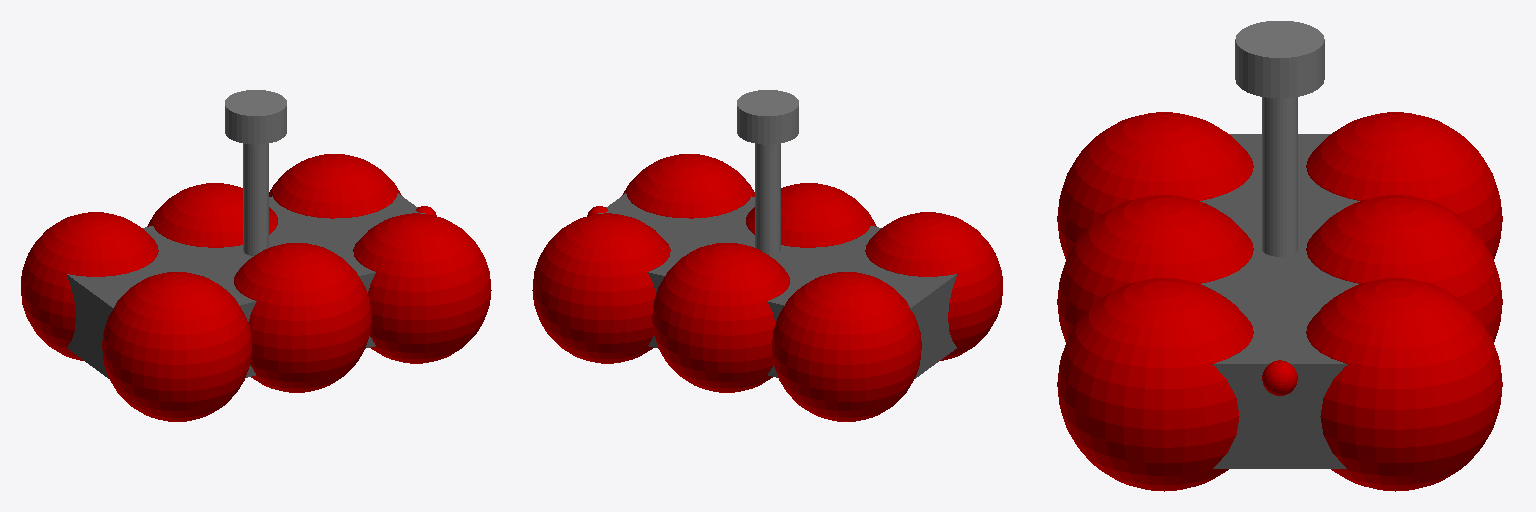
URDF robot description (pointRobot):
<?xml version="1.0"?>
<robot name="pointRobot">
  <!--colors-->
  <material name="blue">
      <color rgba="0 0 0.8 1"/>
  </material>
  <material name="red">
      <color rgba="0.8 0 0.0 1"/>
  </material>
  <material name="transparent_red">
      <color rgba="0.8 0 0.0 0.2"/>
  </material>
  <material name="darkgrey">
      <color rgba="0.502 0.502 0.502 1.0"/>
  </material>
  <material name="lightgrey">
      <color rgba="0.402 0.402 0.402 0.9"/>
  </material>
  <!--links-->
  <link name="world"/>
  <link name="base_link_x">
    <inertial>
      <mass value="1.0"/>
      <origin rpy="0 0 0" xyz="0 0 0"/>
      <inertia ixx="1.0" ixy="0.0" ixz="0.0" iyy="1.0" iyz="0.0" izz="1.0"/>
    </inertial>
  </link>
  <link name="base_link_y">
    <inertial>
      <mass value="1.0"/>
      <origin rpy="0 0 0" xyz="0 0 0"/>
      <inertia ixx="1.0" ixy="0.0" ixz="0.0" iyy="1.0" iyz="0.0" izz="1.0"/>
    </inertial>
  </link>
  <link name="base_link">
    <inertial>
      <mass value="100.0"/>
      <origin rpy="0 0 0" xyz="0 0 0"/>
      <inertia ixx="1.0" ixy="0.0" ixz="0.0" iyy="1.0" iyz="0.0" izz="1.0"/>
    </inertial>
    <collision>
      <origin rpy="0.0 0 0" xyz="0 0 0"/>
      <geometry>
        <box size='0.61 0.33 0.13'/>
      </geometry>
    </collision>
    <visual>
      <origin rpy="0.0 0 0" xyz="0 0 0"/>
      <geometry>
        <box size='0.61 0.33 0.13'/>
      </geometry>
      <material name="lightgrey"/>
    </visual>
  </link>
  <link name="pole_link">
    <inertial>
      <mass value="100.0"/>
      <origin rpy="0 0 0" xyz="0 0 0"/>
      <inertia ixx="1.0" ixy="0.0" ixz="0.0" iyy="1.0" iyz="0.0" izz="1.0"/>
    </inertial>
    <collision>
      <origin rpy="0.0 0 0" xyz="0 0 0"/>
      <geometry>
          <cylinder length="0.43" radius="0.02"/>
      </geometry>
    </collision>
    <visual>
      <origin rpy="0.0 0 0" xyz="0 0 0"/>
      <geometry>
          <cylinder length="0.43" radius="0.02"/>
      </geometry>
      <material name="darkgrey"/>
    </visual>
  </link>
  <link name="platform_link">
    <inertial>
      <mass value="100.0"/>
      <origin rpy="0 0 0" xyz="0 0 0"/>
      <inertia ixx="1.0" ixy="0.0" ixz="0.0" iyy="1.0" iyz="0.0" izz="1.0"/>
    </inertial>
    <collision>
      <origin rpy="0.0 0 0" xyz="0 0 0"/>
      <geometry>
          <cylinder length="0.05" radius="0.05"/>
      </geometry>
    </collision>
    <visual>
      <origin rpy="0.0 0 0" xyz="0 0 0"/>
      <geometry>
          <cylinder length="0.05" radius="0.05"/>
      </geometry>
      <material name="darkgrey"/>
    </visual>
  </link>
  <link name="front_link">
    <inertial>
      <mass value="0.01"/>
      <origin rpy="0 0 0" xyz="0 0 0"/>
      <inertia ixx="1.0" ixy="0.0" ixz="0.0" iyy="1.0" iyz="0.0" izz="1.0"/>
    </inertial>
    <visual>
      <origin rpy="0.0 0 0" xyz="0 0 0"/>
      <geometry>
          <sphere radius="0.02"/>
      </geometry>
      <material name="red"/>
    </visual>
  </link>
  <link name="lidar_sensor_link">
    <inertial>
      <mass value="0.01"/>
      <origin rpy="0 0 0" xyz="0 0 0"/>
      <inertia ixx="1.0" ixy="0.0" ixz="0.0" iyy="1.0" iyz="0.0" izz="1.0"/>
    </inertial>
  </link>
  <!--collision links-->
  <link name="collision_link_front_right">
    <inertial>
      <mass value="0.01"/>
      <origin rpy="0 0 0" xyz="0 0 0"/>
      <inertia ixx="1.0" ixy="0.0" ixz="0.0" iyy="1.0" iyz="0.0" izz="1.0"/>
    </inertial>
    <visual>
      <origin rpy="0.0 0 0" xyz="0 0 0"/>
      <geometry>
        <sphere radius='0.12'/>
      </geometry>
      <material name="transparent_red"/>
    </visual>
  </link>
  <link name="collision_link_front_left">
    <inertial>
      <mass value="0.01"/>
      <origin rpy="0 0 0" xyz="0 0 0"/>
      <inertia ixx="1.0" ixy="0.0" ixz="0.0" iyy="1.0" iyz="0.0" izz="1.0"/>
    </inertial>
    <visual>
      <origin rpy="0.0 0 0" xyz="0 0 0"/>
      <geometry>
        <sphere radius='0.12'/>
      </geometry>
      <material name="transparent_red"/>
    </visual>
  </link>
  <link name="collision_link_center_right">
    <inertial>
      <mass value="0.01"/>
      <origin rpy="0 0 0" xyz="0 0 0"/>
      <inertia ixx="1.0" ixy="0.0" ixz="0.0" iyy="1.0" iyz="0.0" izz="1.0"/>
    </inertial>
    <visual>
      <origin rpy="0.0 0 0" xyz="0 0 0"/>
      <geometry>
        <sphere radius='0.12'/>
      </geometry>
      <material name="transparent_red"/>
    </visual>
  </link>
  <link name="collision_link_center_left">
    <inertial>
      <mass value="0.01"/>
      <origin rpy="0 0 0" xyz="0 0 0"/>
      <inertia ixx="1.0" ixy="0.0" ixz="0.0" iyy="1.0" iyz="0.0" izz="1.0"/>
    </inertial>
    <visual>
      <origin rpy="0.0 0 0" xyz="0 0 0"/>
      <geometry>
        <sphere radius='0.12'/>
      </geometry>
      <material name="transparent_red"/>
    </visual>
  </link>
  <link name="collision_link_rear_right">
    <inertial>
      <mass value="0.01"/>
      <origin rpy="0 0 0" xyz="0 0 0"/>
      <inertia ixx="1.0" ixy="0.0" ixz="0.0" iyy="1.0" iyz="0.0" izz="1.0"/>
    </inertial>
    <visual>
      <origin rpy="0.0 0 0" xyz="0 0 0"/>
      <geometry>
        <sphere radius='0.12'/>
      </geometry>
      <material name="transparent_red"/>
    </visual>
  </link>
  <link name="collision_link_rear_left">
    <inertial>
      <mass value="0.01"/>
      <origin rpy="0 0 0" xyz="0 0 0"/>
      <inertia ixx="1.0" ixy="0.0" ixz="0.0" iyy="1.0" iyz="0.0" izz="1.0"/>
    </inertial>
    <visual>
      <origin rpy="0.0 0 0" xyz="0 0 0"/>
      <geometry>
        <sphere radius='0.12'/>
      </geometry>
      <material name="transparent_red"/>
    </visual>
  </link>
  <!--joints-->
  <joint name="mobile_joint_x" type="prismatic">
    <safety_controller k_position="100.0" k_velocity="40.0" soft_lower_limit="-2.8973" soft_upper_limit="2.8973"/>
    <parent link="world"/>
    <child link="base_link_x"/>
    <origin rpy="0 0 0" xyz="0 0 0.05"/>
    <axis xyz="1 0 0"/>
    <limit effort="87" lower="-5" upper="5" velocity="2.1750"/>
  </joint>
  <joint name="mobile_joint_y" type="prismatic">
    <safety_controller k_position="100.0" k_velocity="40.0" soft_lower_limit="-2.8973" soft_upper_limit="2.8973"/>
    <parent link="base_link_x"/>
    <child link="base_link_y"/>
    <origin rpy="0 0 0" xyz="0 0 0"/>
    <axis xyz="0 1 0"/>
    <limit effort="87" lower="-5" upper="5" velocity="2.1750"/>
  </joint>
  <joint name="mobile_joint_theta" type="revolute">
    <parent link="base_link_y"/>
    <child link="base_link"/>
    <origin rpy="0 0 0" xyz="0 0 0"/>
    <axis xyz="0 0 1"/>
    <limit effort="87" lower="-5" upper="5" velocity="2.1750"/>
  </joint>
  <joint name="robot_pole_joint" type="fixed">
    <parent link="base_link"/>
    <child link="pole_link"/>
    <origin rpy="0 0 0" xyz="0 0 0.1"/>
  </joint>
  <joint name="platform_joint" type="fixed">
    <parent link="pole_link"/>
    <child link="platform_link"/>
    <origin rpy="0 0 0" xyz="0 0 0.2"/>
  </joint>
  <joint name="lidar_sensor_joint" type="fixed">
    <parent link="platform_link"/>
    <child link="lidar_sensor_link"/>
    <origin rpy="0 0 0" xyz="0 0 0.1"/>
  </joint>
  <joint name="feature_link_joint" type='fixed'>
    <parent link="base_link"/>
    <child link="front_link"/>
    <origin rpy="0 0 0" xyz="0.31 0.0 0.05"/>
  </joint>
  <joint name="collision_front_right_joint" type='fixed'>
    <parent link="base_link"/>
    <child link="collision_link_front_right"/>
    <origin rpy="0 0 0" xyz="0.22 0.13 0.0"/>
  </joint>
  <joint name="collision_front_left_joint" type='fixed'>
    <parent link="base_link"/>
    <child link="collision_link_front_left"/>
    <origin rpy="0 0 0" xyz="0.22 -0.13 0.0"/>
  </joint>
  <joint name="collision_center_right_joint" type='fixed'>
    <parent link="base_link"/>
    <child link="collision_link_center_right"/>
    <origin rpy="0 0 0" xyz="0.0 0.13 0.0"/>
  </joint>
  <joint name="collision_center_left_joint" type='fixed'>
    <parent link="base_link"/>
    <child link="collision_link_center_left"/>
    <origin rpy="0 0 0" xyz="0.0 -0.13 0.0"/>
  </joint>
  <joint name="collision_rear_right_joint" type='fixed'>
    <parent link="base_link"/>
    <child link="collision_link_rear_right"/>
    <origin rpy="0 0 0" xyz="-0.22 0.13 0.0"/>
  </joint>
  <joint name="collision_rear_left_joint" type='fixed'>
    <parent link="base_link"/>
    <child link="collision_link_rear_left"/>
    <origin rpy="0 0 0" xyz="-0.22 -0.13 0.0"/>
  </joint>
  
</robot>

--- Facts derived from the render (not from the file) ---
The picture shows the robot from 3 angles, left to right: view 1: azimuth 30°, elevation 25°; view 2: azimuth 150°, elevation 25°; view 3: azimuth 270°, elevation 25°; orthographic projection.
Robot: pointRobot — 14 links, 13 joints (1 revolute, 2 prismatic, 10 fixed); root link world; default pose: all joints at 0.
Visible links, largest first — view 1: collision_link_rear_left, collision_link_front_left, collision_link_center_left, base_link, collision_link_rear_right, collision_link_front_right, collision_link_center_right, platform_link, pole_link; view 2: collision_link_rear_right, collision_link_front_right, collision_link_center_right, base_link, collision_link_rear_left, collision_link_front_left, collision_link_center_left, platform_link, pole_link; view 3: collision_link_front_right, collision_link_front_left, base_link, collision_link_rear_right, collision_link_rear_left, collision_link_center_right, collision_link_center_left, platform_link, pole_link, front_link.
Link boxes in pixels (x1,y1,x2,y2): collision_link_rear_left: (102, 272, 251, 421); collision_link_front_left: (353, 213, 491, 363); collision_link_center_left: (234, 243, 371, 392); base_link: (67, 193, 425, 378); collision_link_rear_right: (21, 212, 158, 360); collision_link_front_right: (269, 154, 401, 218); collision_link_center_right: (147, 183, 277, 247); platform_link: (225, 90, 286, 144); pole_link: (243, 144, 268, 255); collision_link_rear_right: (772, 272, 921, 421); collision_link_front_right: (532, 213, 670, 363); collision_link_center_right: (652, 243, 789, 392); base_link: (598, 193, 956, 378); collision_link_rear_left: (865, 212, 1002, 360); collision_link_front_left: (622, 154, 754, 218); collision_link_center_left: (746, 183, 876, 247); platform_link: (737, 90, 798, 144); pole_link: (755, 144, 780, 255); collision_link_front_right: (1306, 278, 1502, 491); collision_link_front_left: (1057, 278, 1253, 491); base_link: (1200, 134, 1359, 468); collision_link_rear_right: (1306, 112, 1502, 258); collision_link_rear_left: (1057, 112, 1253, 258); collision_link_center_right: (1306, 195, 1502, 341); collision_link_center_left: (1057, 195, 1253, 341); platform_link: (1235, 21, 1324, 98); pole_link: (1262, 97, 1297, 256); front_link: (1262, 360, 1297, 395).
Bounding box of the posed robot: 0.68 × 0.5 × 0.445 m (x, y, z).
Geometry: primitives only (box / cylinder / sphere), no mesh files.
